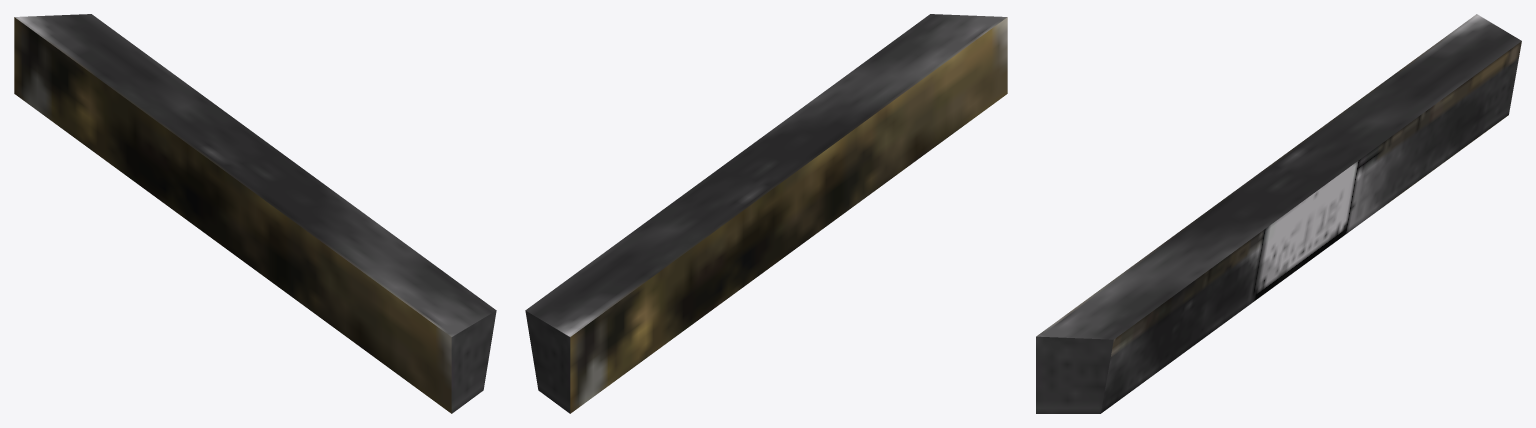
Rendered from GLA - Ground Vehicles - = - Damage State 4 - UVTechJeep_d4.glb.
The picture shows the model from 3 angles, left to right: view 1: azimuth 30°, elevation 25°; view 2: azimuth 150°, elevation 25°; view 3: azimuth 330°, elevation 25°; orthographic projection.
Parts seen in each view (by area): view 1: UVTECHJEEP_D4; view 2: UVTECHJEEP_D4; view 3: UVTECHJEEP_D4.
Part boxes in pixels (<box>): UVTECHJEEP_D4: <box>14,14,496,413</box>; UVTECHJEEP_D4: <box>525,14,1007,413</box>; UVTECHJEEP_D4: <box>1036,14,1521,413</box>.
Bounding box in the file's own units: 1.01 × 1.21 × 12.5.
Materials: 1 (1 with a texture image).
